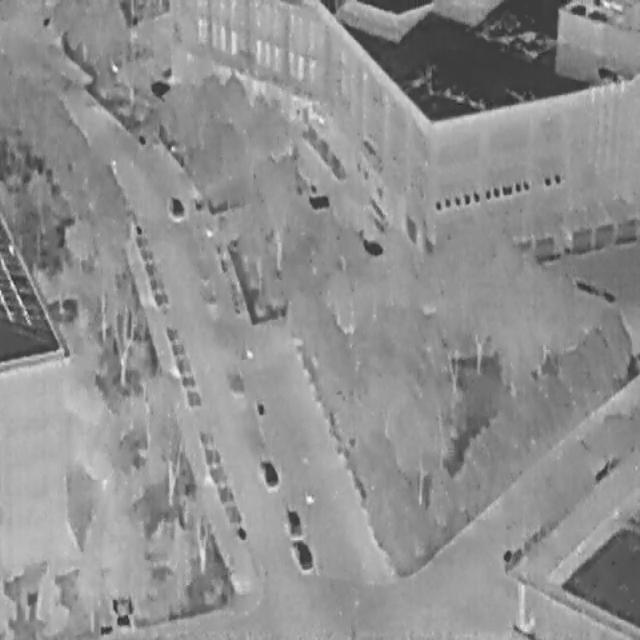Car: (291, 535, 314, 570), (258, 454, 279, 488), (285, 505, 303, 539), (168, 192, 185, 218)
